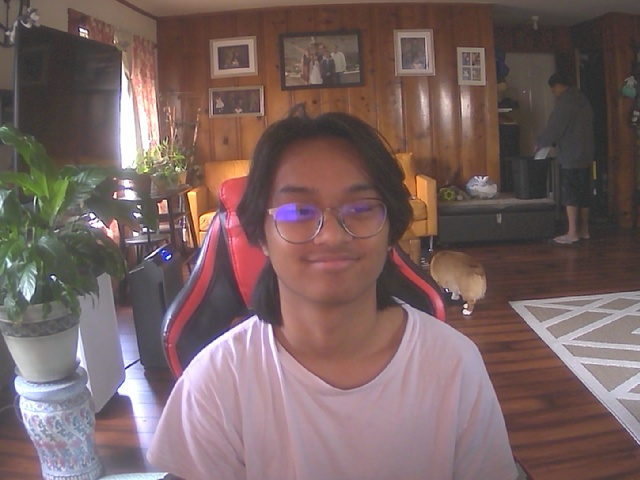happy: (256, 114, 400, 308)
